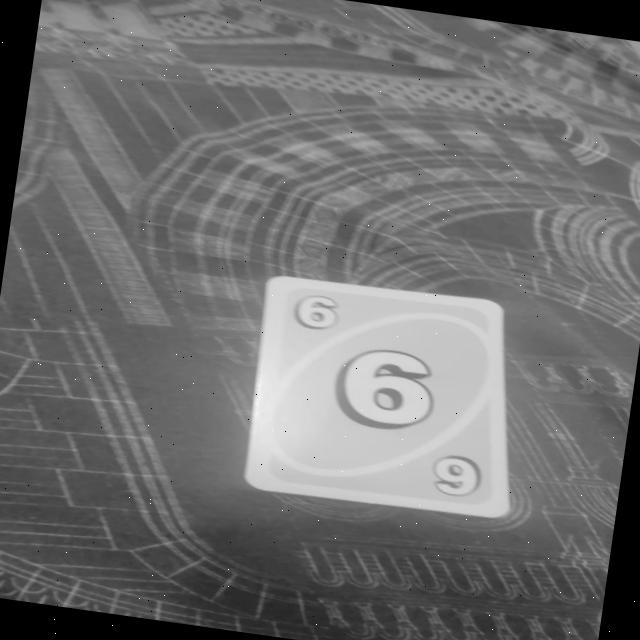card_6: (236, 267, 538, 525)
